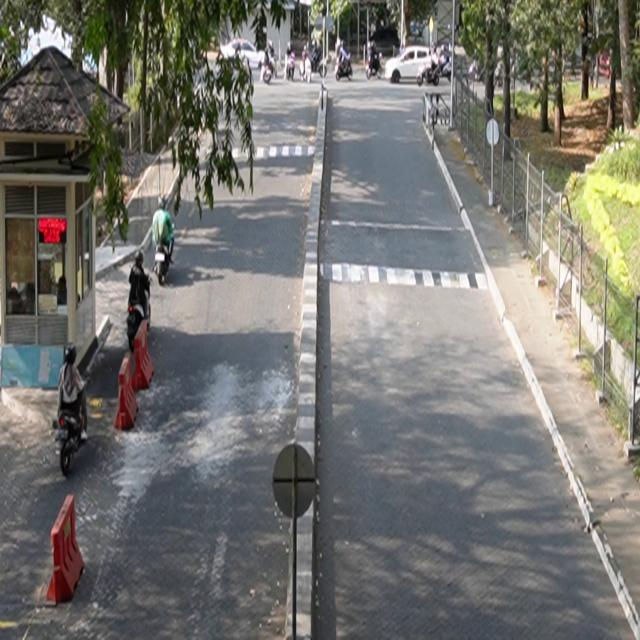car: (386, 46, 437, 85), (219, 39, 266, 70)
